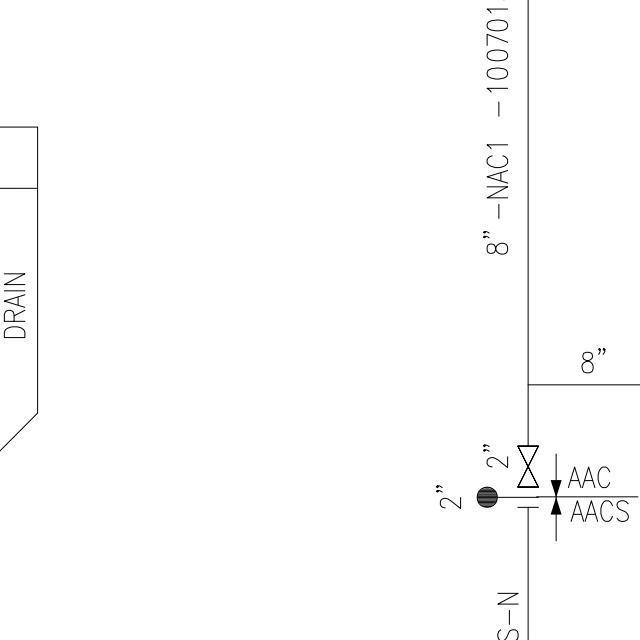GV: (512, 440, 543, 490)
